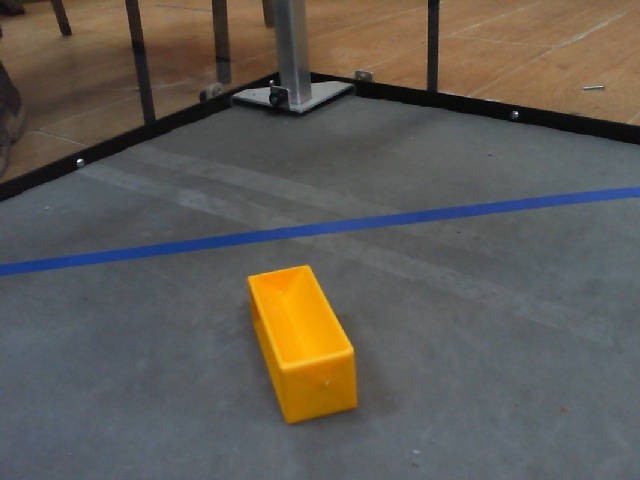YellowSample: (237, 257, 364, 426)
